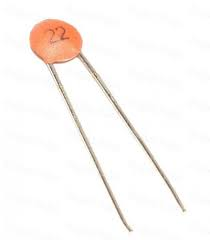ceramic capacitor: (17, 6, 107, 101)
